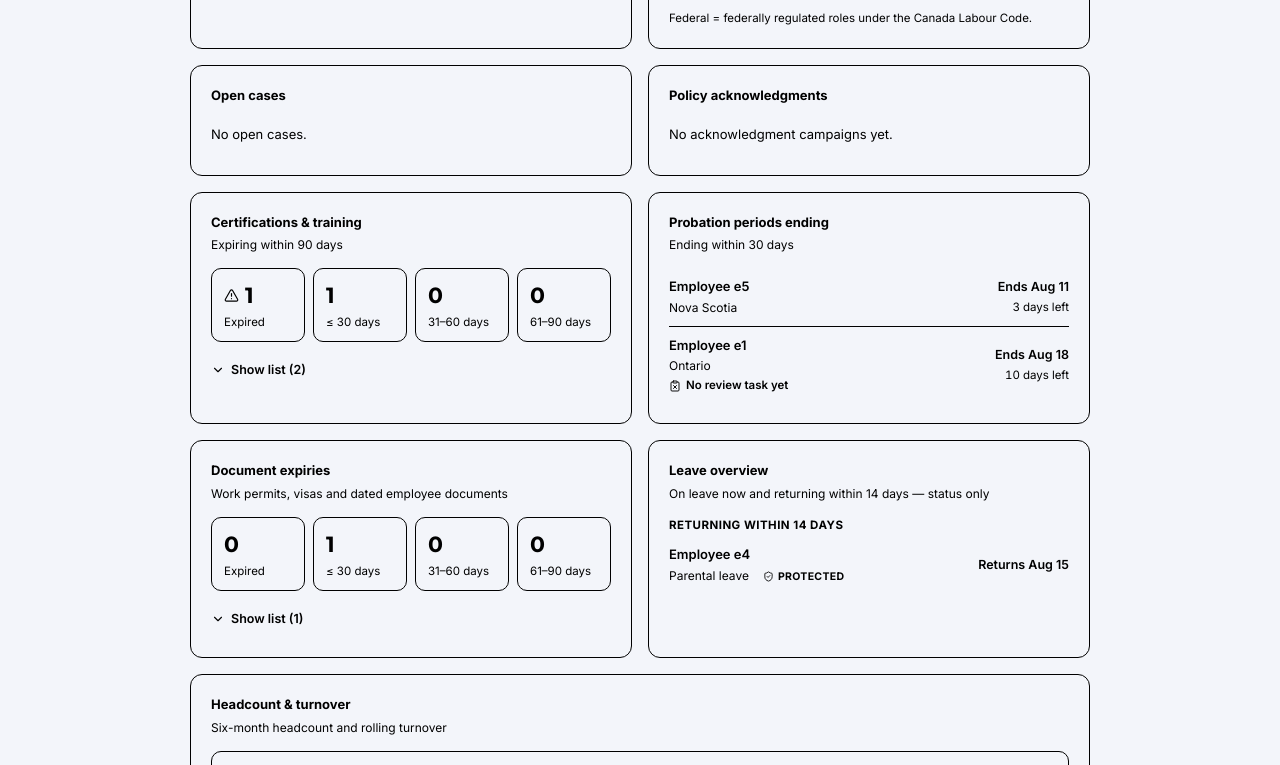
Test case: AnalyticsView in production mode › lights up certifications, documents, probation, leave and turnover from real records
The image size is (1280, 765).
(page scrolled)
Click the button "Show list (2)".
click(258, 370)  # box x1=211 y1=352 x2=306 y2=388
(page scrolled)
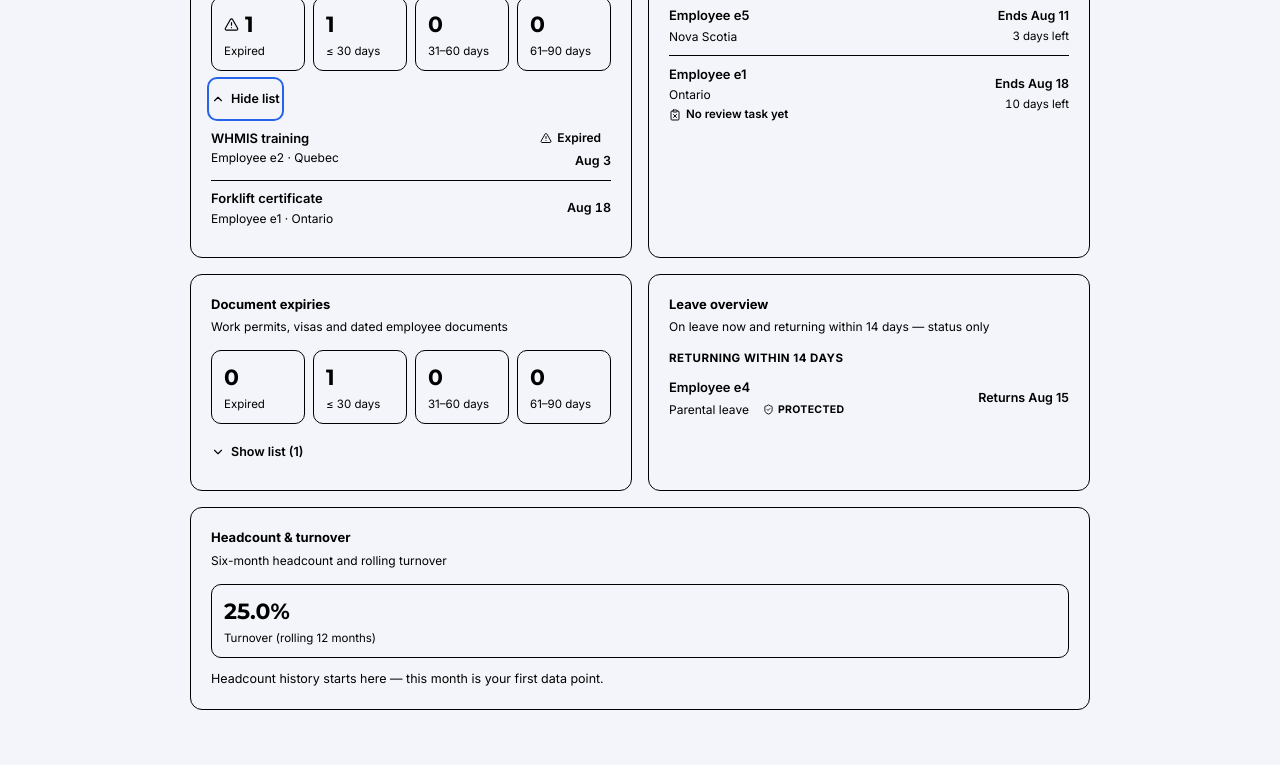
expect the text "WHMIS training" is shown: met, box x1=211 y1=130 x2=309 y2=146
expect the text "Expired" is shown: met, box x1=540 y1=130 x2=601 y2=145
expect the text "Forklift certificate" is shown: met, box x1=211 y1=190 x2=333 y2=208
